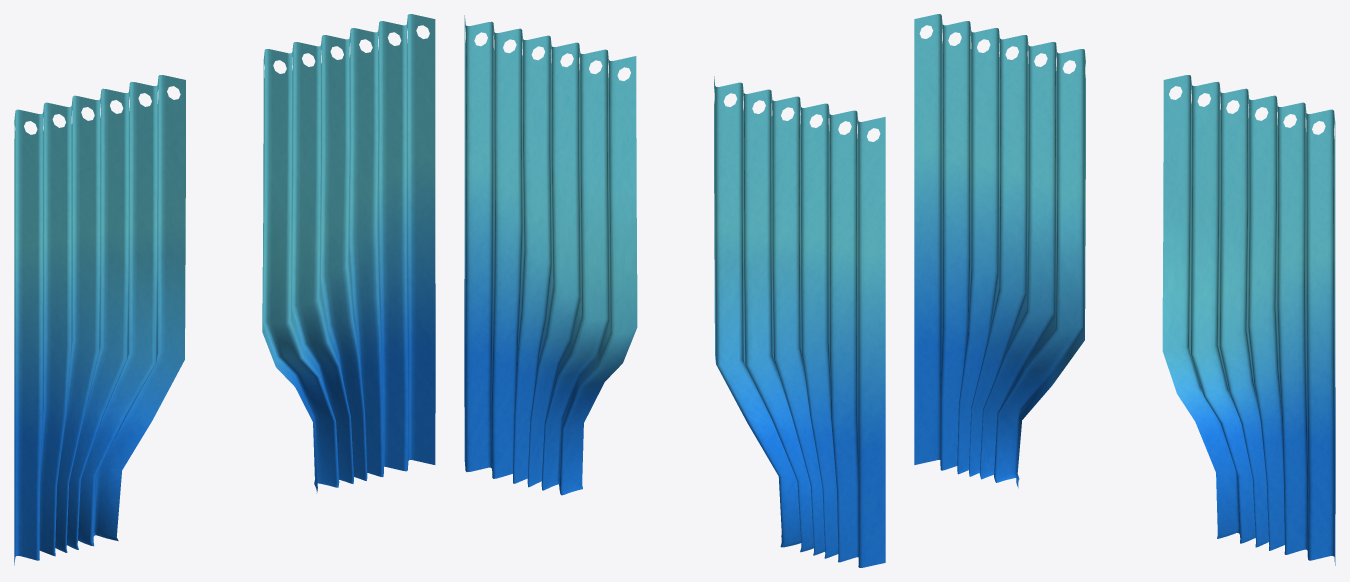
Rendered from Curtain-ImprovedUVs_SD.fbx.
3 renders of one model, left to right at view 1: azimuth 30°, elevation 25°; view 2: azimuth 150°, elevation 25°; view 3: azimuth 330°, elevation 25°, orthographic.
Visible parts, largest first — view 1: CurtainFolds_left; view 2: CurtainFolds_left; view 3: CurtainFolds_left.
Boxes of the visible parts, <box> form: CurtainFolds_left: <box>14,14,435,565</box>; CurtainFolds_left: <box>464,15,885,567</box>; CurtainFolds_left: <box>914,14,1335,565</box>.
Bounding box in the file's own units: 179 × 181 × 8.69.
